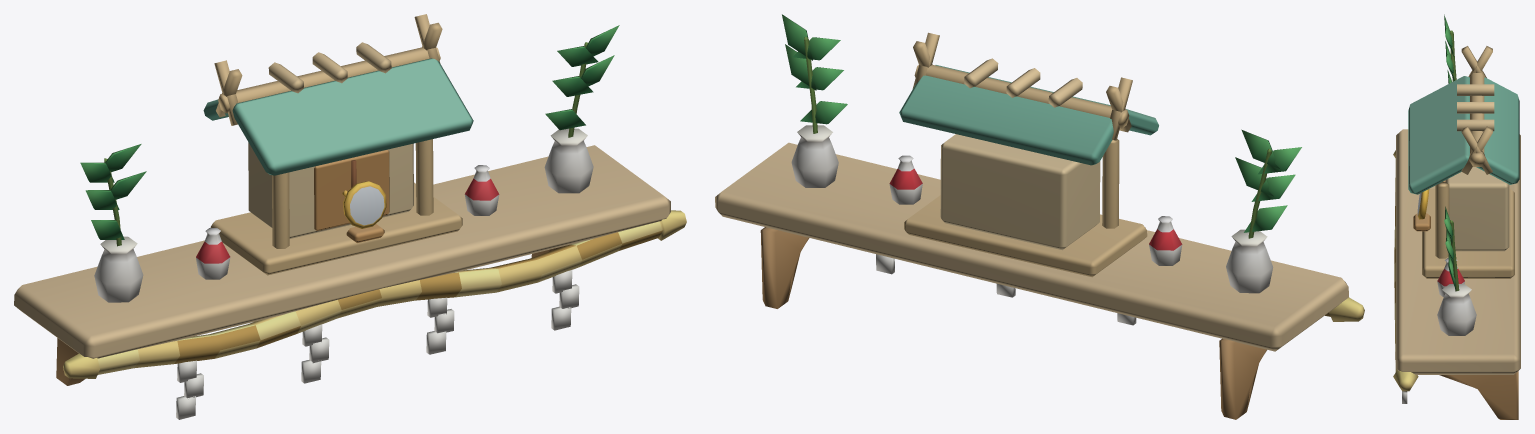
Rendered from furn-kamidana.glb.
3 renders of one model, left to right at view 1: azimuth 30°, elevation 25°; view 2: azimuth 150°, elevation 25°; view 3: azimuth 270°, elevation 25°, orthographic. The views are drawn at different scales.
Visible parts, largest first — view 1: furn-kamidana; view 2: furn-kamidana; view 3: furn-kamidana.
Boxes of the visible parts, bbox=[...] form: furn-kamidana: bbox=[14, 14, 686, 419]; furn-kamidana: bbox=[715, 14, 1364, 419]; furn-kamidana: bbox=[1393, 14, 1520, 419].
Bounding box in the file's own units: 0.992 × 0.4568 × 0.22.
